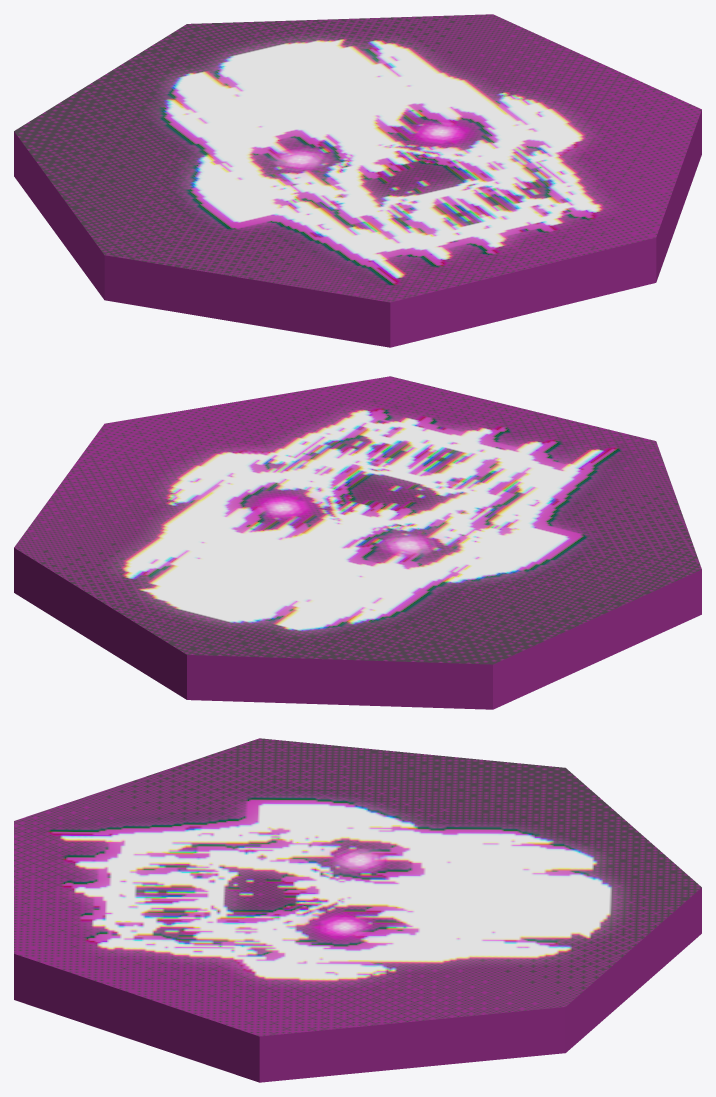
The model's file is Fear Coin Collider.fbx.
The picture shows the model from 3 angles, top to bottom: view 1: azimuth 30°, elevation 25°; view 2: azimuth 150°, elevation 25°; view 3: azimuth 270°, elevation 25°; orthographic projection. The views are drawn at different scales.
Visible parts, largest first — view 1: (Magenta) Fear Coin.001; view 2: (Magenta) Fear Coin.001; view 3: (Magenta) Fear Coin.001.
Part boxes in pixels (bbox=[...]): (Magenta) Fear Coin.001: bbox=[14, 14, 701, 347]; (Magenta) Fear Coin.001: bbox=[14, 376, 701, 709]; (Magenta) Fear Coin.001: bbox=[14, 738, 701, 1082].
Bounding box in the file's own units: 195 × 14.08 × 190.
